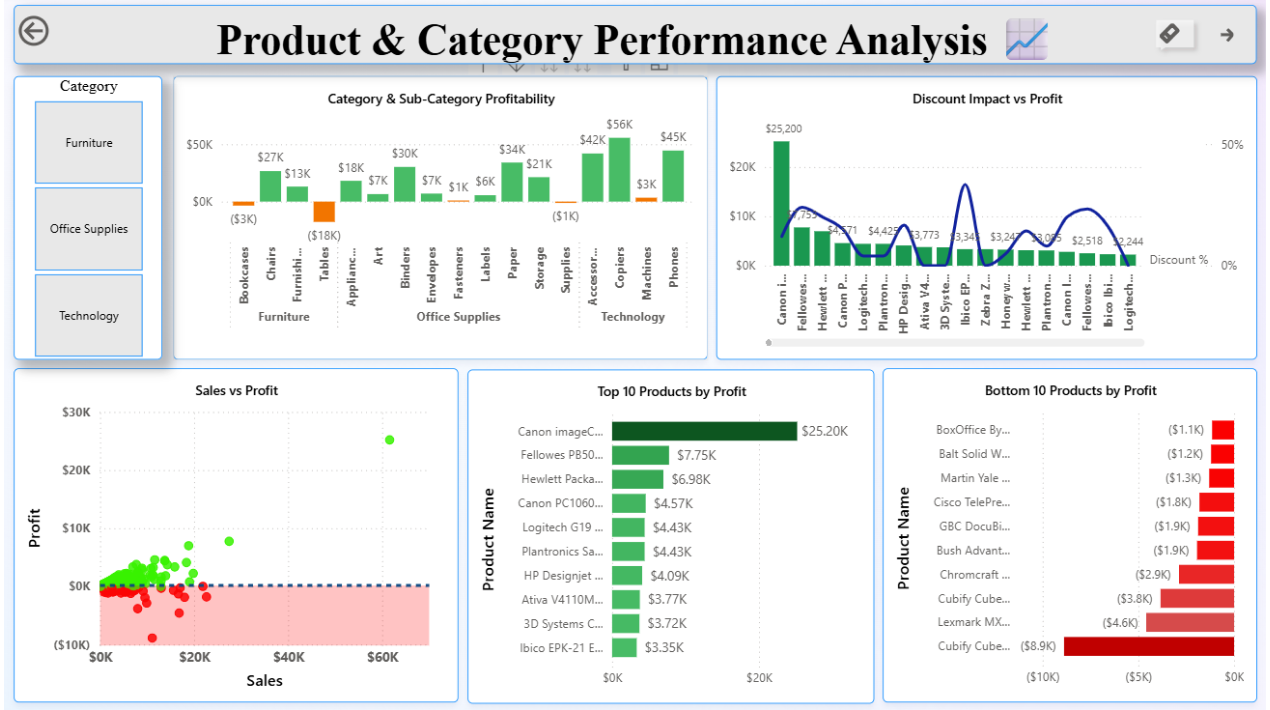

This screenshot's page, from the dashboard's own definition file:
{"tool":"powerbi","page":{"name":"Product & Category Performance Analysis","canvas":[1280,720],"ordinal":1},"visuals":[{"type":"clusteredColumnChart","title":" Category & Sub-Category Profitability","fields":{"Category":["Products.Category","Products.Sub-Category"],"Y":["Measures Table.Profit"]},"box":[172.4,76.8,541.7,287.4],"z":1000},{"type":"lineClusteredColumnComboChart","title":" Discount Impact vs Profit","fields":{"Y":["Measures Table.Profit"],"Y2":["Measures Table.Avg Discount %"],"Category":["Products.Product Name"]},"box":[722.7,76.8,547.8,287.4],"z":1500},{"type":"scatterChart","title":"Sales vs Profit","fields":{"Category":["Products.Product Name"],"X":["Measures Table.Sales"],"Y":["Measures Table.Profit"]},"box":[11,373,450,338.7],"z":2000},{"type":"shape","title":"Product & Category Performance Analysis 📈","box":[11,4.9,1259.5,60],"z":3000},{"type":"slicer","title":"Category","fields":{"Values":["Products.Category"]},"box":[11,76.8,150.4,287.4],"z":4000},{"type":"clusteredBarChart","title":"Top 10 Products by Profit ","fields":{"Category":["Products.Product Name"],"Y":["Measures Table.Profit"]},"box":[470.8,374.2,412.1,338.7],"z":6500},{"type":"clusteredBarChart","title":"Bottom 10 Products by Profit ","fields":{"Category":["Products.Product Name"],"Y":["Measures Table.Profit"]},"box":[891.4,373,379.1,338.7],"z":6750},{"type":"actionButton","box":[1215.5,11,55,48.9],"z":7000},{"type":"actionButton","box":[1159.2,11,56.3,48.9],"z":8000},{"type":"actionButton","box":[11,11,100.3,40.4],"z":9000}]}

Visuals, with their boxes in screenshot pixels (x1, y1, x2, y2), scaled from the page's 1280x720 canvas onto the 1270x710 screenshot:
" Category & Sub-Category Profitability" clusteredColumnChart: bbox=(171, 76, 709, 359)
" Discount Impact vs Profit" lineClusteredColumnComboChart: bbox=(717, 76, 1261, 359)
"Sales vs Profit" scatterChart: bbox=(11, 368, 457, 702)
"Product & Category Performance Analysis 📈" shape: bbox=(11, 5, 1261, 64)
"Category" slicer: bbox=(11, 76, 160, 359)
"Top 10 Products by Profit " clusteredBarChart: bbox=(467, 369, 876, 703)
"Bottom 10 Products by Profit " clusteredBarChart: bbox=(884, 368, 1261, 702)
actionButton: bbox=(1206, 11, 1261, 59)
actionButton: bbox=(1150, 11, 1206, 59)
actionButton: bbox=(11, 11, 110, 51)
